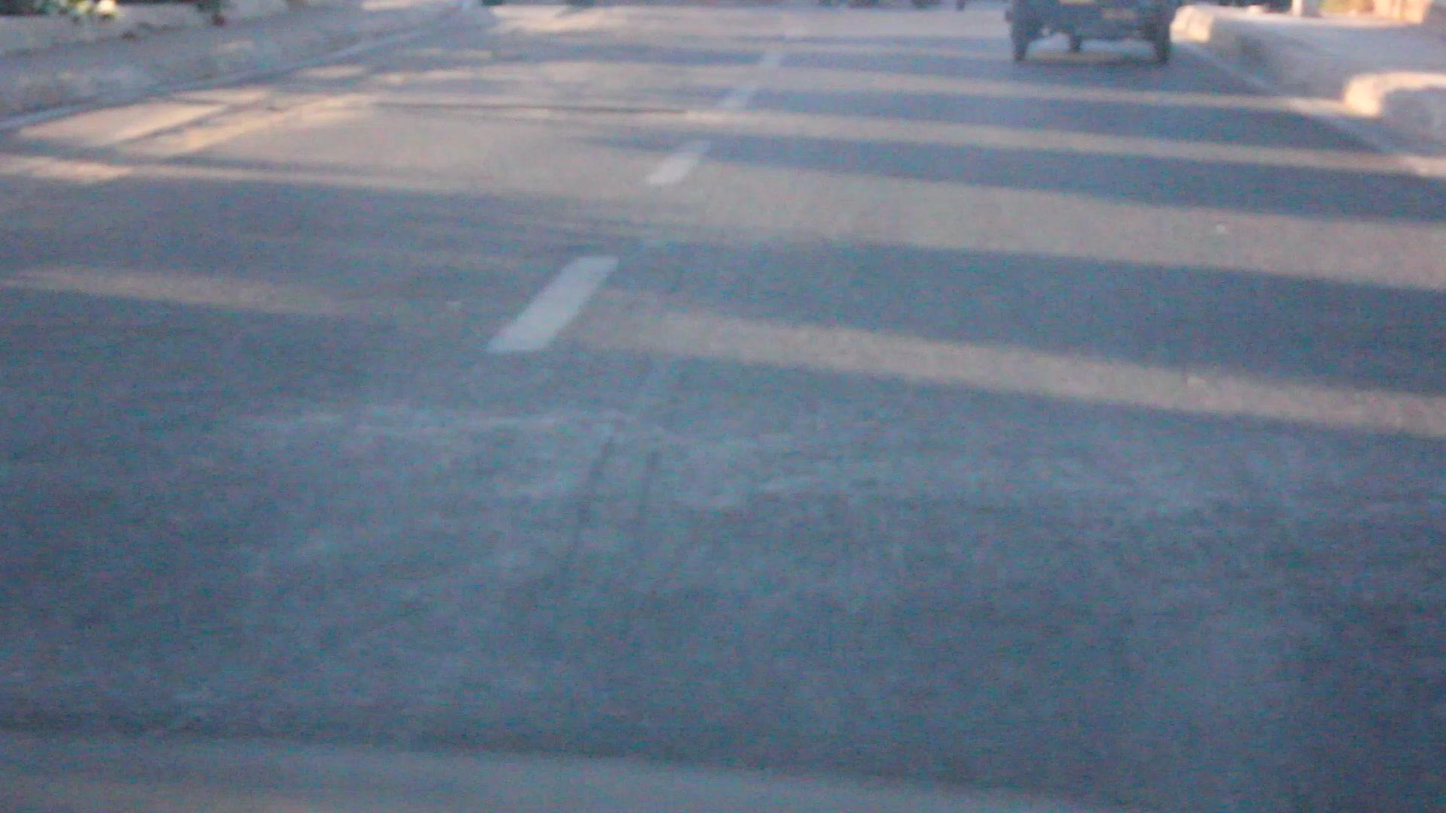Bump: (6, 384, 1435, 809)
